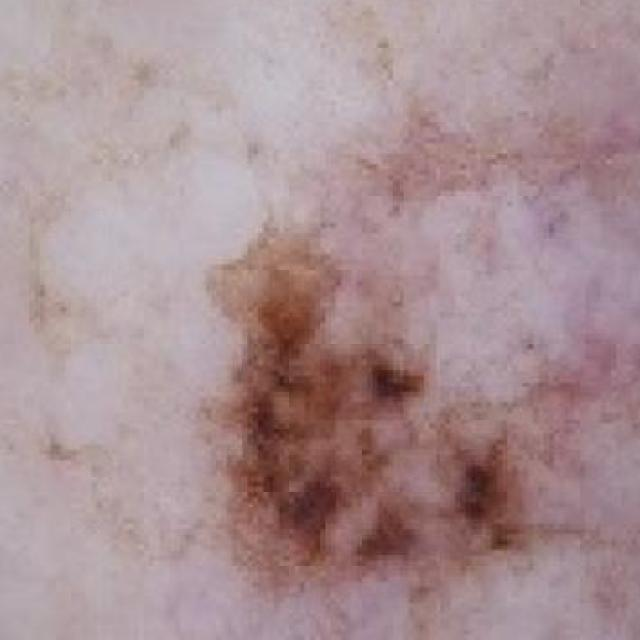MEL: (147, 125, 640, 632)
